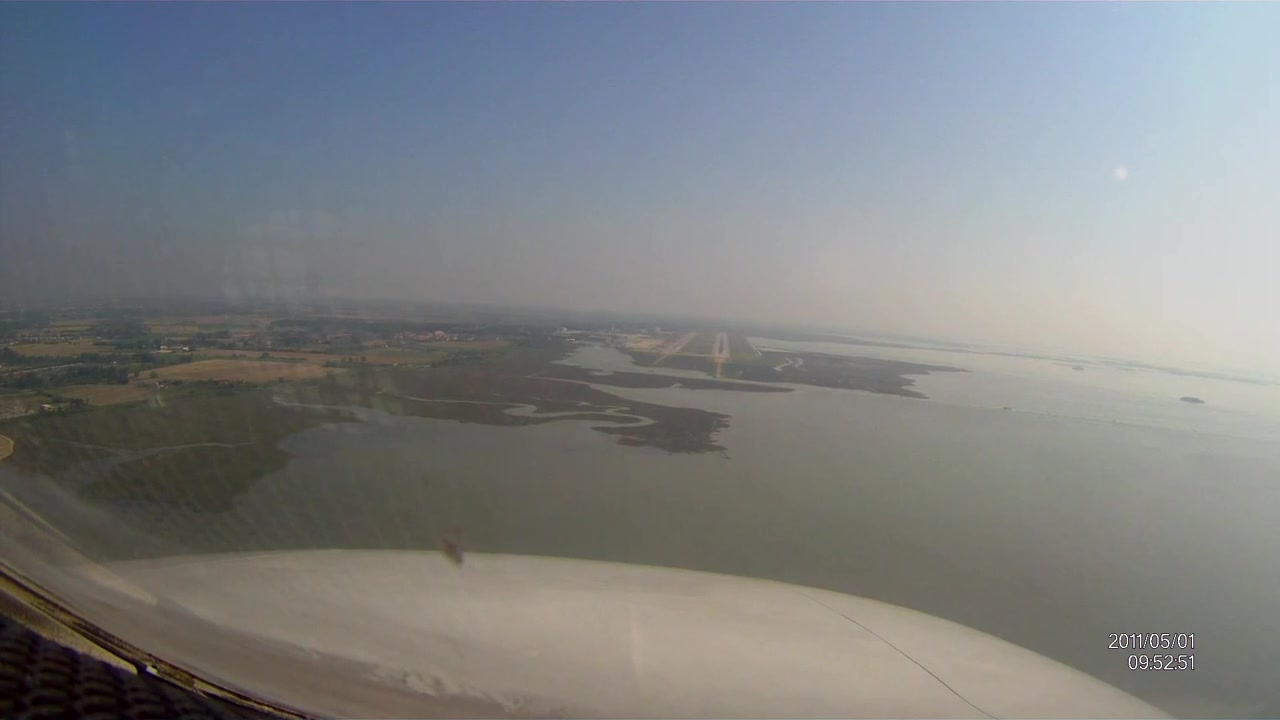runway: (662, 331, 699, 354), (711, 332, 730, 360)
